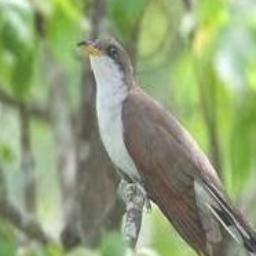Cuckoo: (77, 36, 256, 256)
